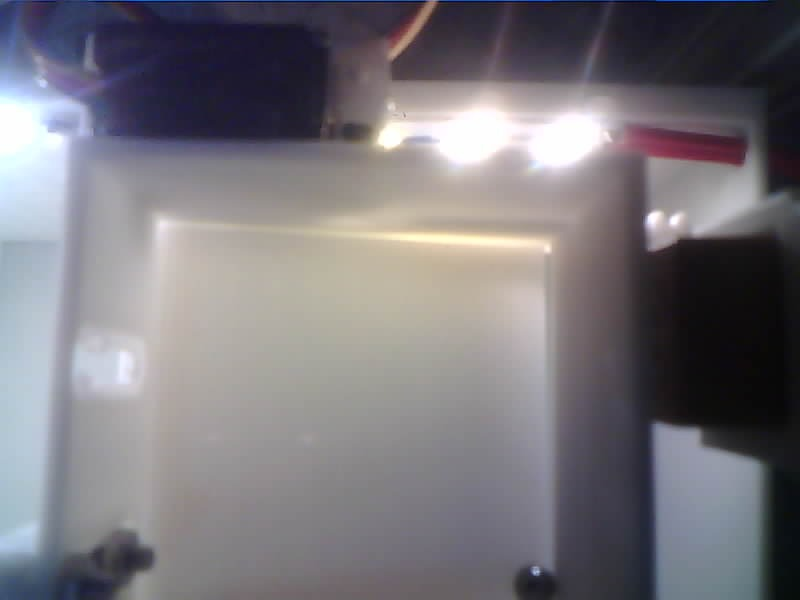Metal: (513, 564, 559, 600)
